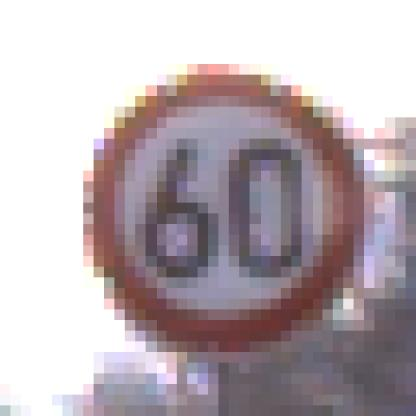Speed Limit 60: (86, 71, 358, 352)
